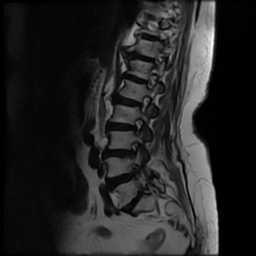RFS0: (132, 90, 154, 114)
RFS1: (127, 114, 148, 137)
RFS2: (121, 139, 145, 163)
